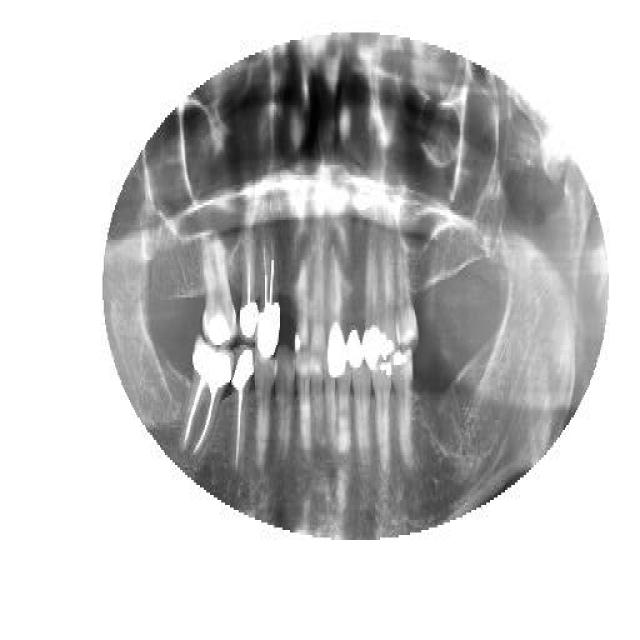Fillings: (390, 347, 420, 475), (203, 232, 235, 342), (370, 357, 392, 475), (363, 233, 382, 365), (328, 250, 347, 380), (382, 253, 396, 355), (346, 308, 364, 370)
Implant: (178, 340, 232, 458), (230, 345, 255, 473), (258, 232, 282, 352), (240, 228, 260, 340)
